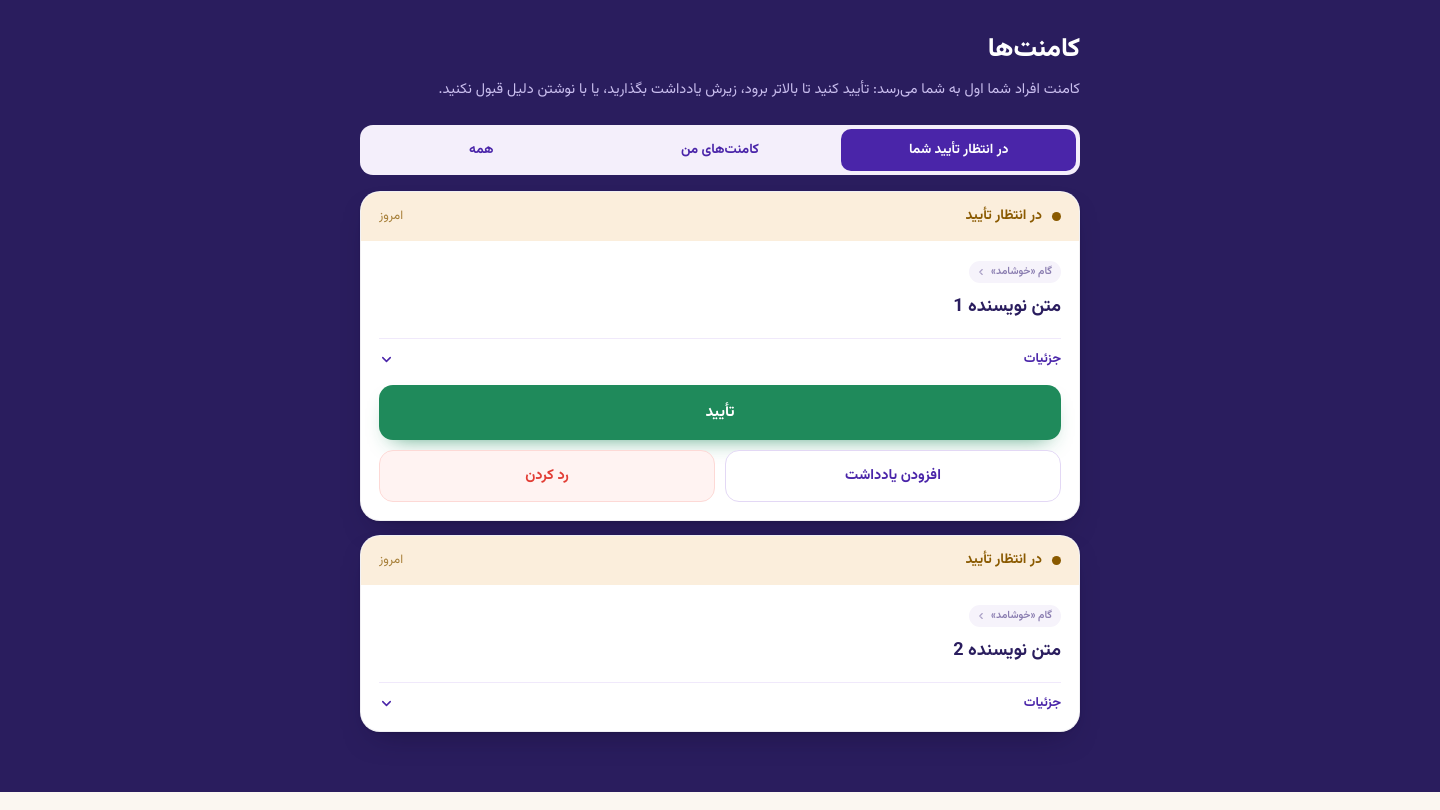
Test: reader inbox › opens one card at a time
What coordinates should you click on to do the following:
click the button "جزئیات" below "متن نویسنده 1"
I would click on:
 (1042, 359)
Its box is [379,338,1061,369].
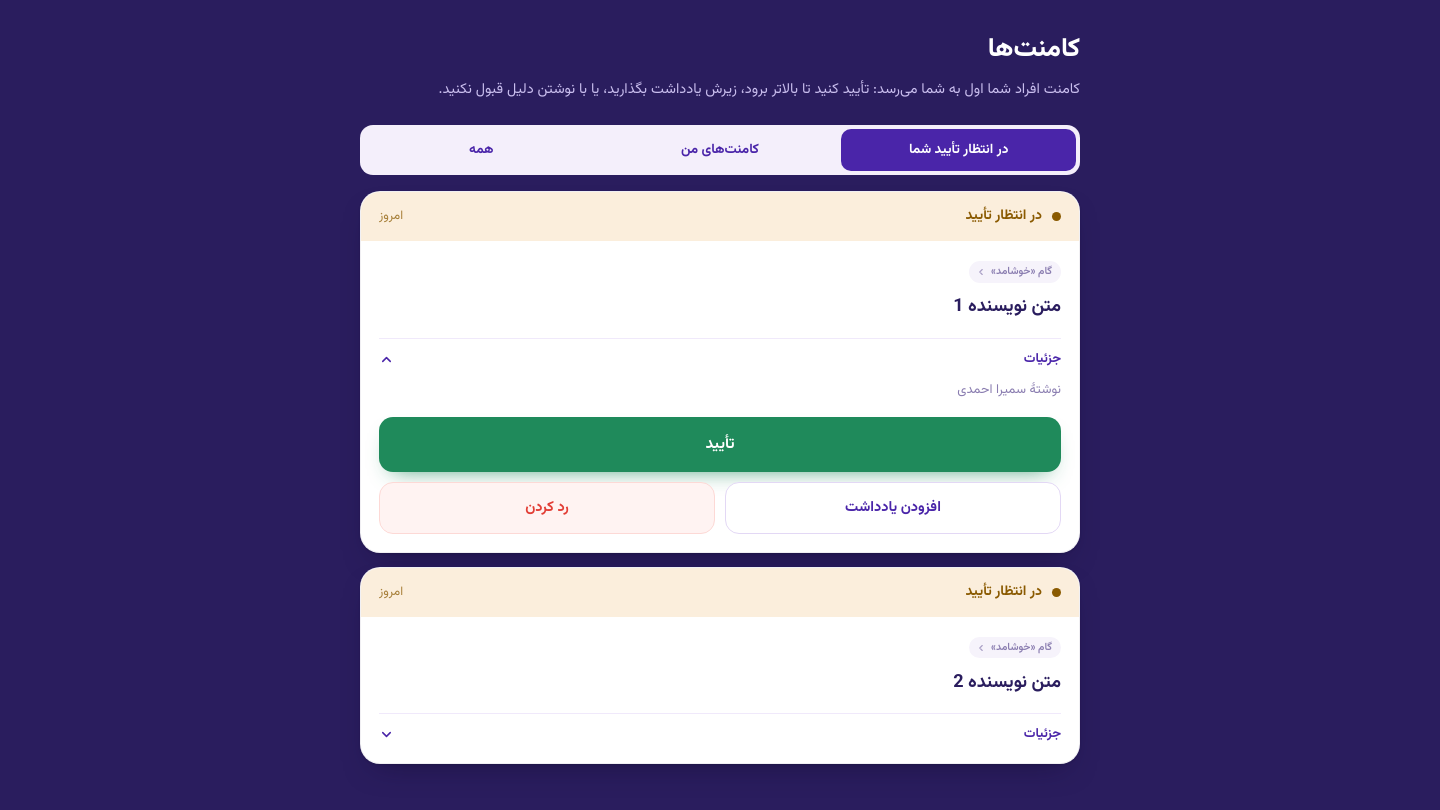
Check: the text "نوشتهٔ سمیرا احمدی" is shown, box [957,380,1061,400]
What coordinates should you click on to do the following:
click the button "جزئیات" below "متن نویسنده 2"
I would click on:
 (1042, 734)
Its box is [379,713,1061,745].
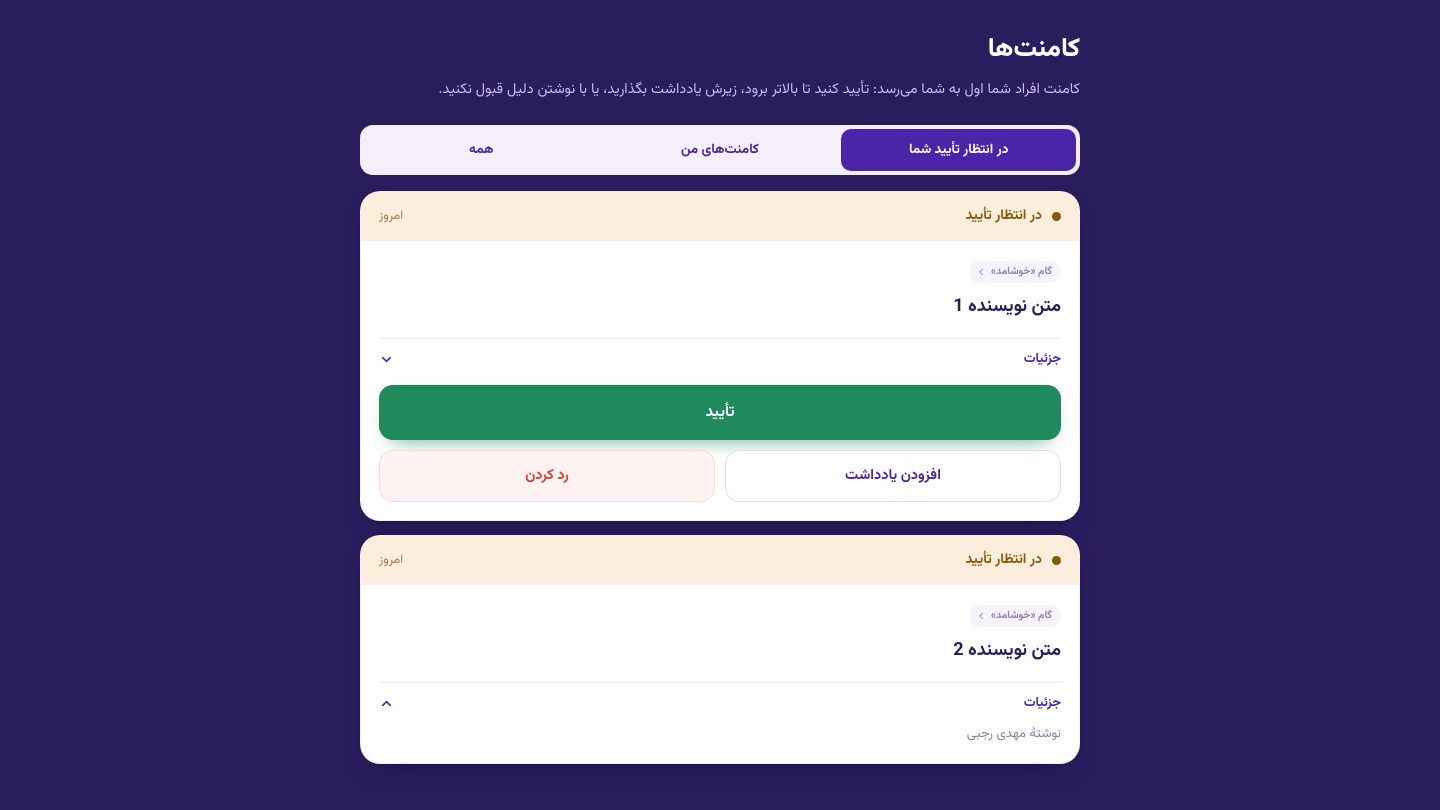
Check: the text "نوشتهٔ مهدی رجبی" is shown, box [967,724,1061,744]
Check: the text "نوشتهٔ سمیرا احمدی" is gone
